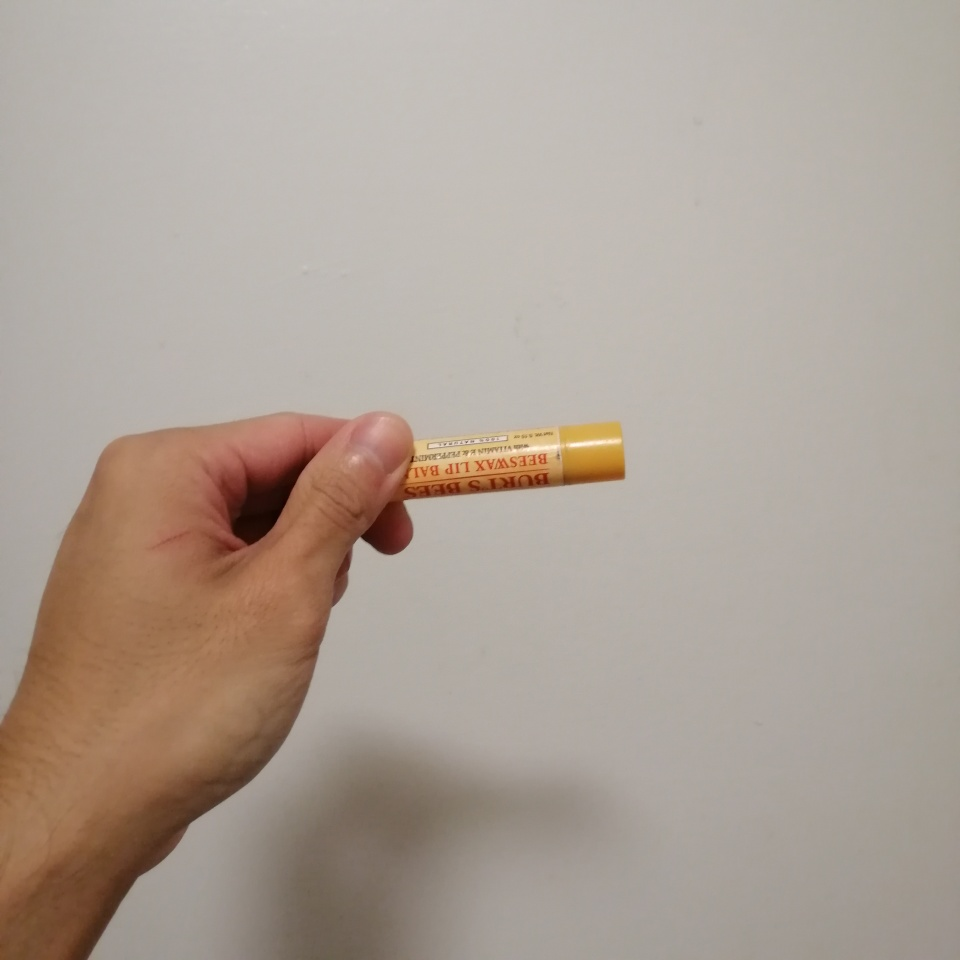chapstick: (382, 420, 627, 503)
